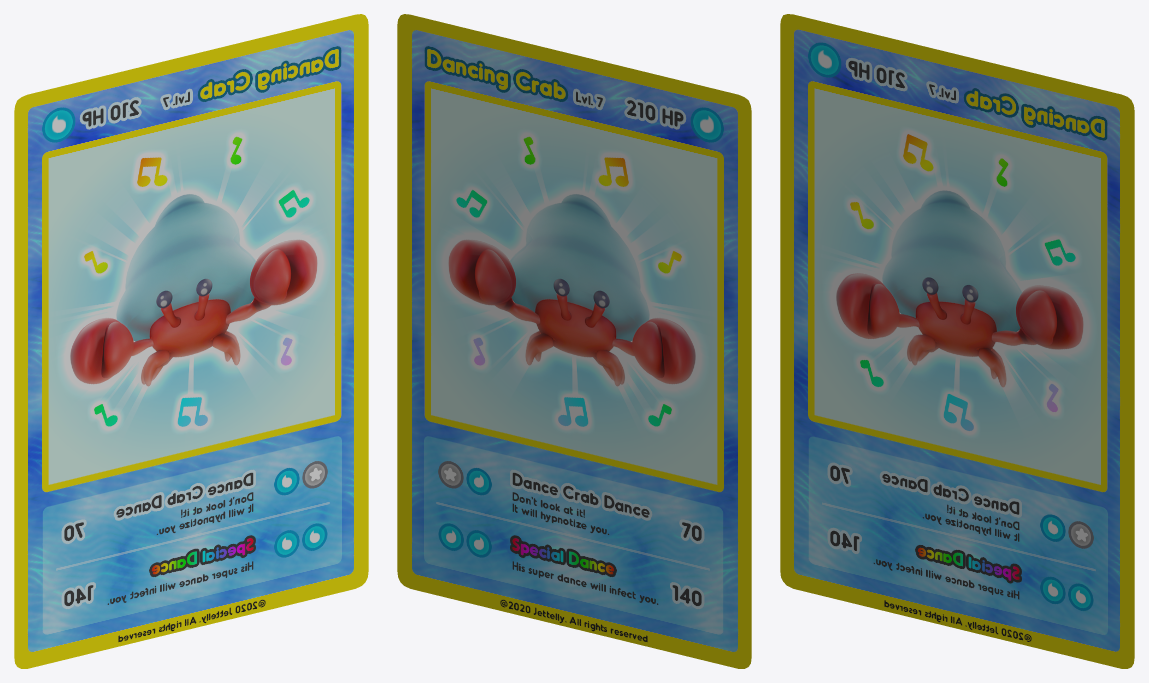
The model's file is CrabCard_mesh.fbx.
The picture shows the model from 3 angles, left to right: view 1: azimuth 30°, elevation 25°; view 2: azimuth 150°, elevation 25°; view 3: azimuth 330°, elevation 25°; orthographic projection.
Parts seen in each view (by area): view 1: CrabCard; view 2: CrabCard; view 3: CrabCard.
Boxes of the visible parts, box(x1,y1,x2,y2) form: CrabCard: box(14, 14, 368, 668); CrabCard: box(397, 14, 751, 668); CrabCard: box(780, 14, 1134, 668).
Size of the model in its own units: 59.87 by 92.69 by 5.23e-06.
